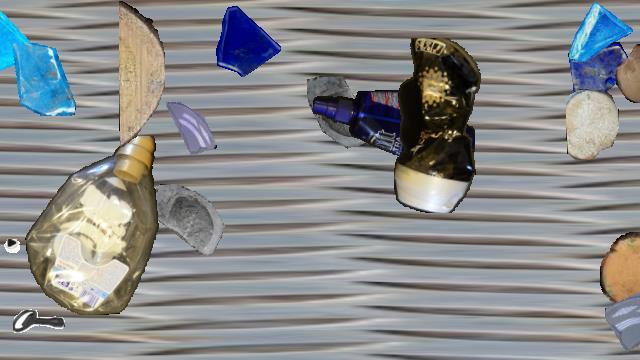glass: (305, 76, 391, 162), (153, 182, 237, 266), (207, 1, 283, 77), (6, 43, 78, 115), (566, 42, 632, 108), (567, 1, 633, 67), (161, 101, 219, 159), (0, 1, 34, 91), (605, 273, 640, 359)
metal: (13, 297, 65, 349), (0, 199, 25, 257)
plastic: (25, 136, 161, 314), (394, 38, 482, 212), (313, 90, 475, 172)
wood: (119, 1, 165, 147), (566, 89, 618, 159), (600, 232, 640, 310), (616, 44, 640, 102)
